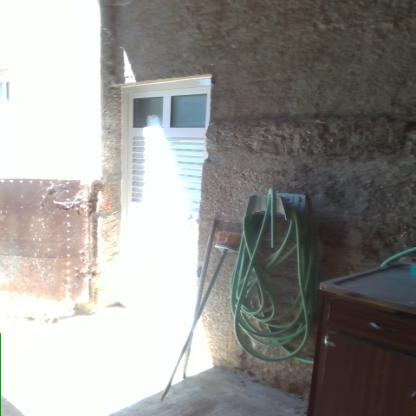closed: (94, 67, 219, 328)
